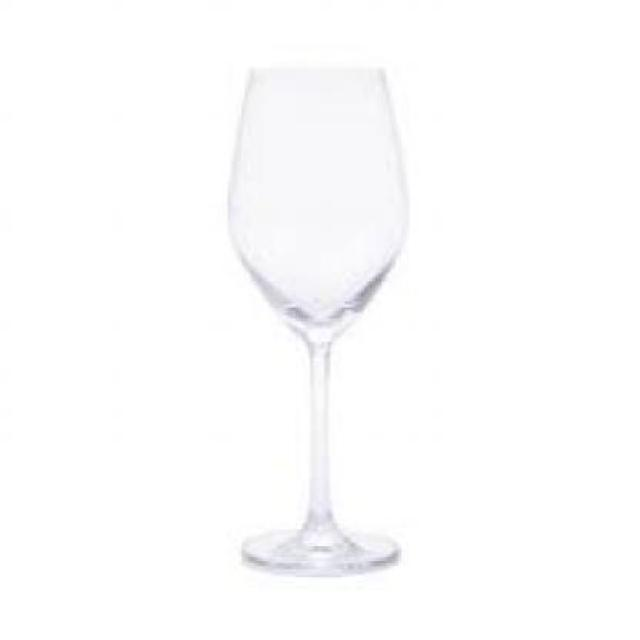kaca: (228, 63, 406, 569)
